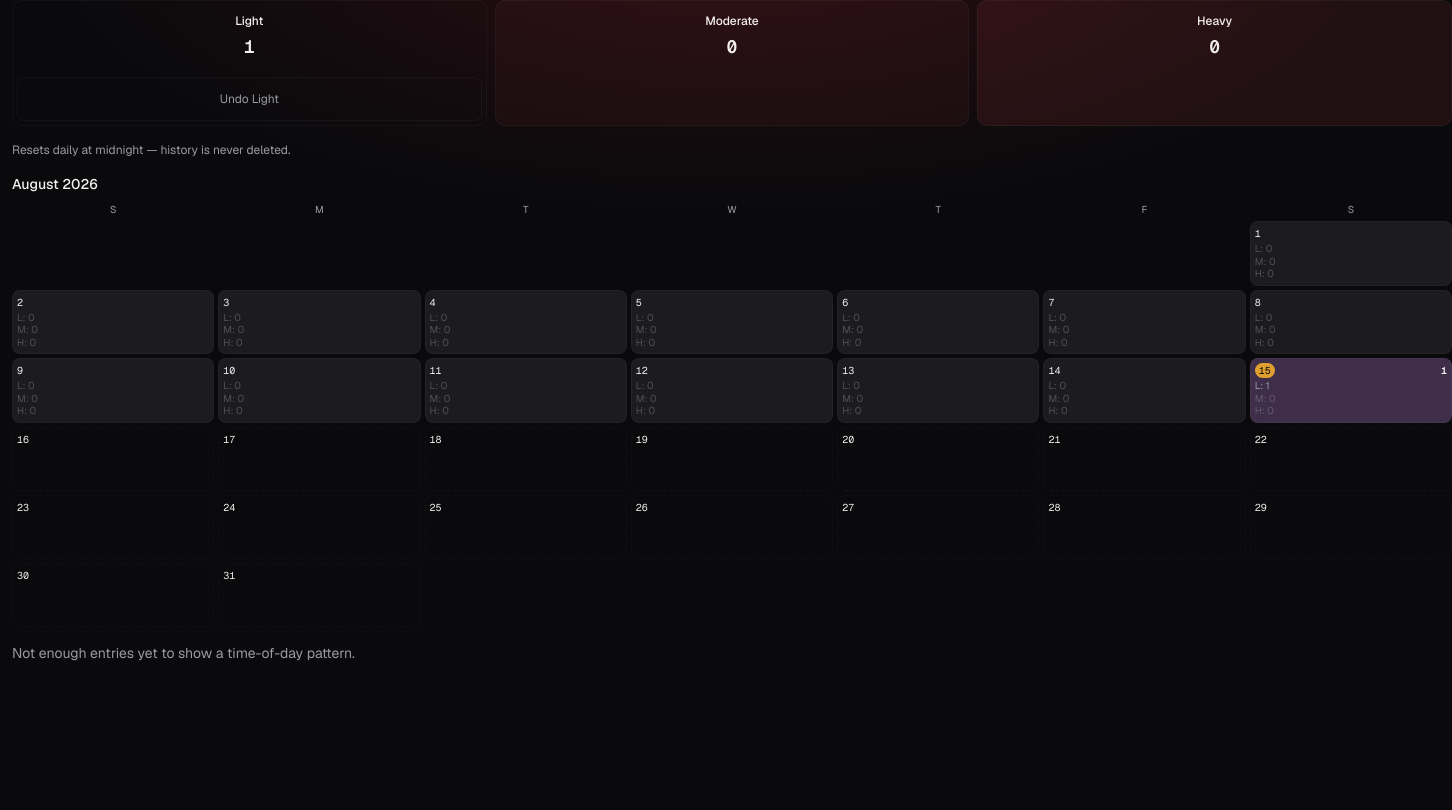
it: ReflectionTracker › undo removes optimistically, before the server action resolves
Click the button "Undo Light". click: {"x": 249, "y": 99}
box: [17, 77, 482, 121]
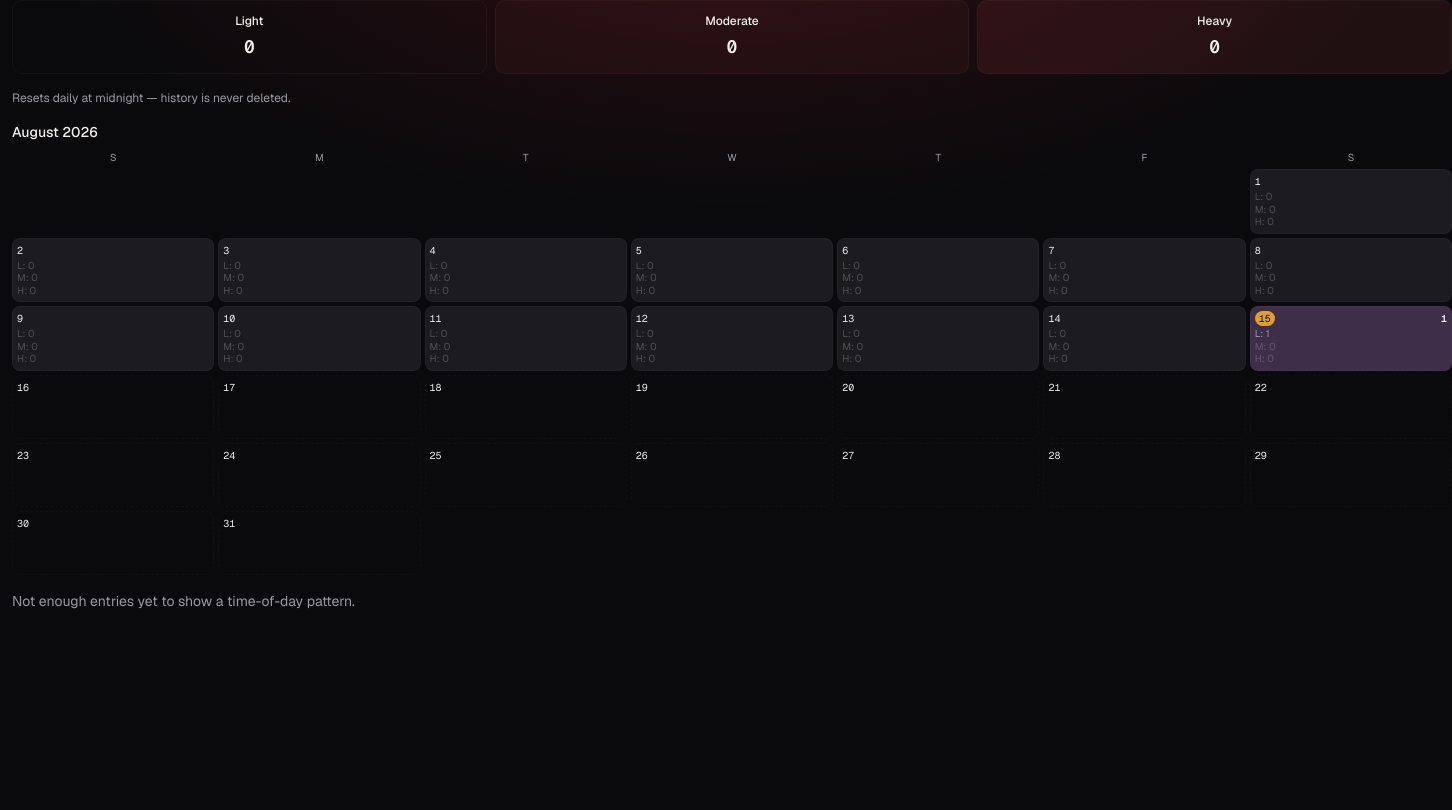
expect no buttons "Undo" are shown: met
